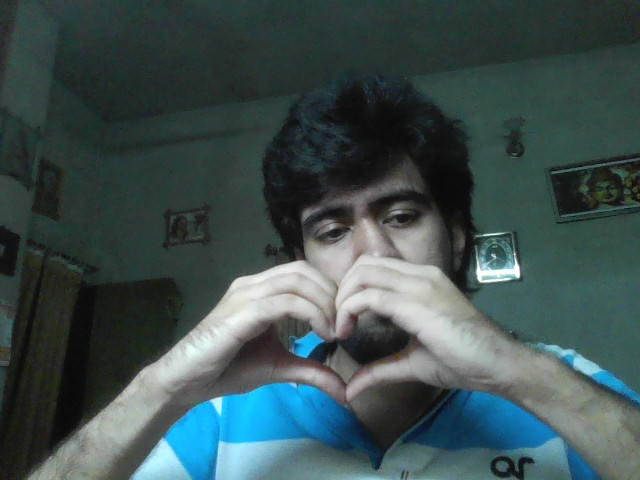Love: (187, 254, 491, 405)
